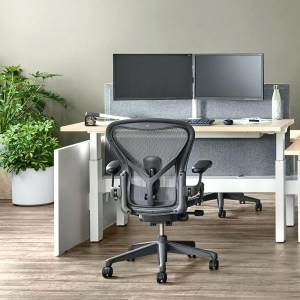chair: (102, 118, 219, 283)
